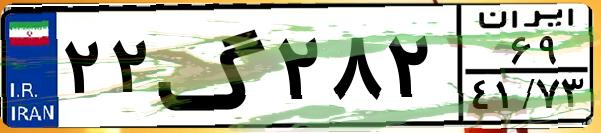1: (495, 70, 520, 125)
2: (270, 28, 330, 110), (385, 28, 445, 110), (57, 26, 110, 100), (110, 28, 156, 98)
3: (560, 70, 590, 125)
4: (470, 70, 495, 125)
6: (508, 27, 537, 80)
7: (535, 70, 560, 125)
8: (330, 28, 385, 110)
9: (537, 27, 568, 80)
گ: (156, 12, 270, 120)
